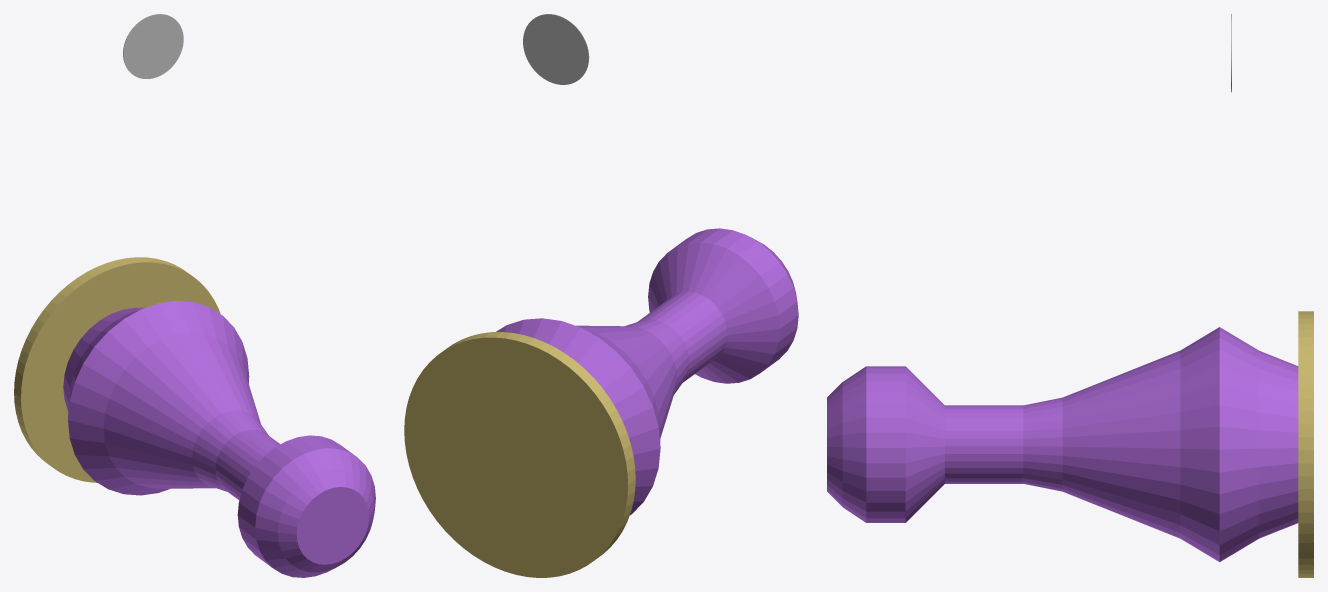
The model's file is purple_pawn_with_face.glb.
3 views of the same model, side by side, from view 1: azimuth 30°, elevation 25°; view 2: azimuth 150°, elevation 25°; view 3: azimuth 270°, elevation 25° (orthographic). The views are drawn at different scales.
Visible parts, largest first — view 1: world; view 2: world; view 3: world.
Boxes of the visible parts, x1=… form: world: x1=14, y1=14, x2=375, y2=577; world: x1=404, y1=14, x2=798, y2=577; world: x1=827, y1=14, x2=1313, y2=577.
Bounding box in the file's own units: 0.34 × 0.77 × 0.62.
